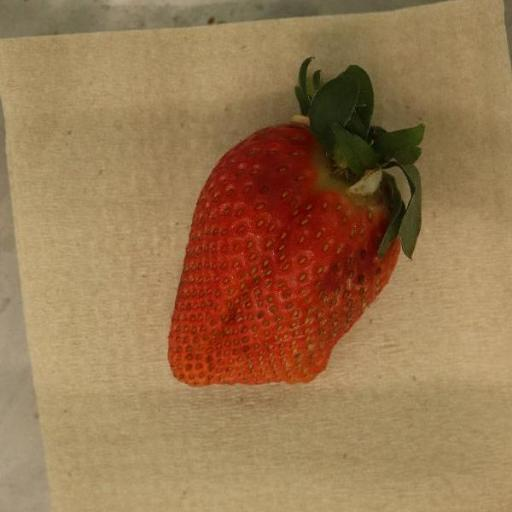Strawberry: (167, 65, 425, 387)
